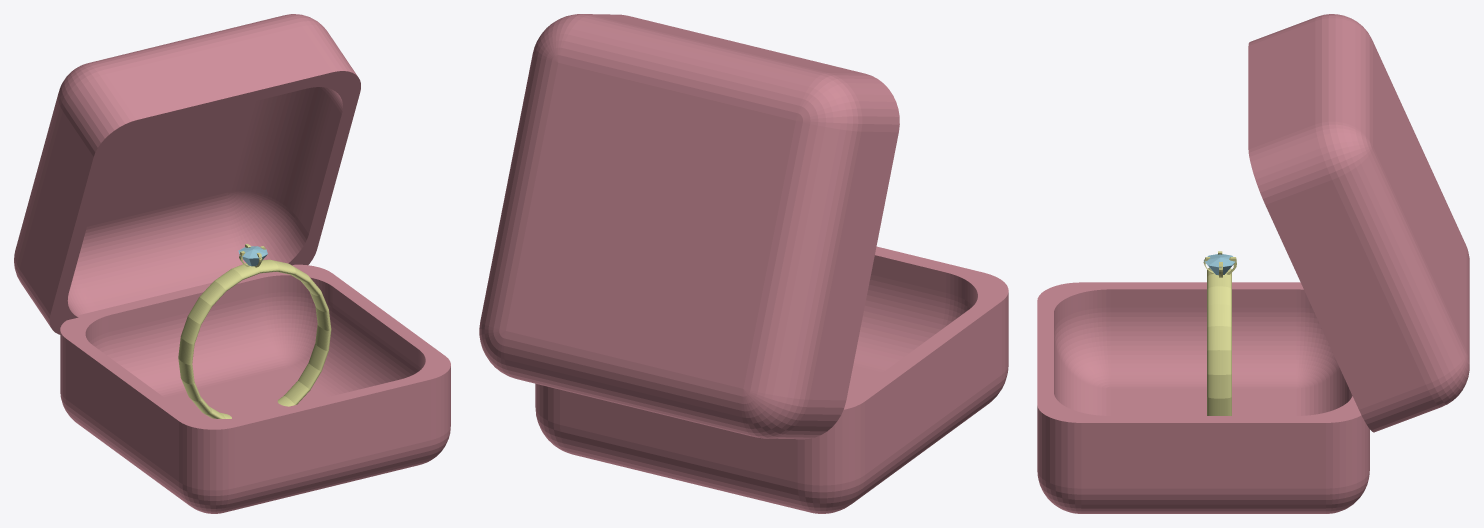
The model's file is tinker.glb.
3 views of the same model, side by side, from view 1: azimuth 30°, elevation 25°; view 2: azimuth 150°, elevation 25°; view 3: azimuth 270°, elevation 25° (orthographic). The views are drawn at different scales.
Visible parts, largest first — view 1: Mesh_Mesh_head_geo.001_lambert2SG.001; view 2: Mesh_Mesh_head_geo.001_lambert2SG.001; view 3: Mesh_Mesh_head_geo.001_lambert2SG.001.
Part boxes in pixels (box(x1,y1,x2,y2)): Mesh_Mesh_head_geo.001_lambert2SG.001: box(14, 14, 450, 513); Mesh_Mesh_head_geo.001_lambert2SG.001: box(479, 14, 1008, 513); Mesh_Mesh_head_geo.001_lambert2SG.001: box(1037, 14, 1469, 513).
Bounding box in the file's own units: 20 × 25.76 × 26.
